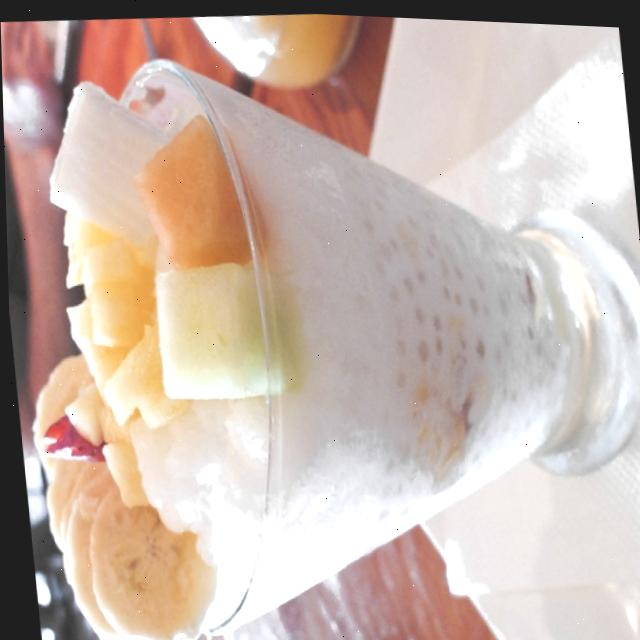蛋糕甜品: (3, 5, 634, 640)
